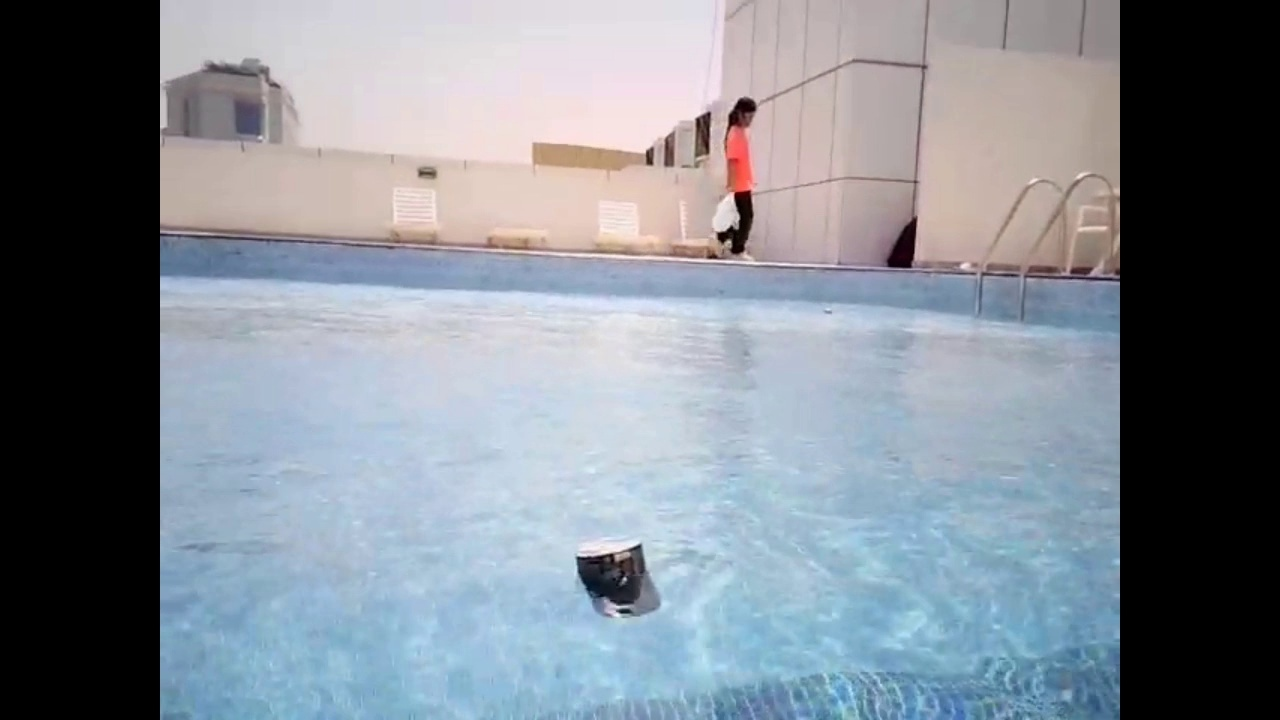debris: (570, 518, 663, 629), (821, 306, 833, 317)
